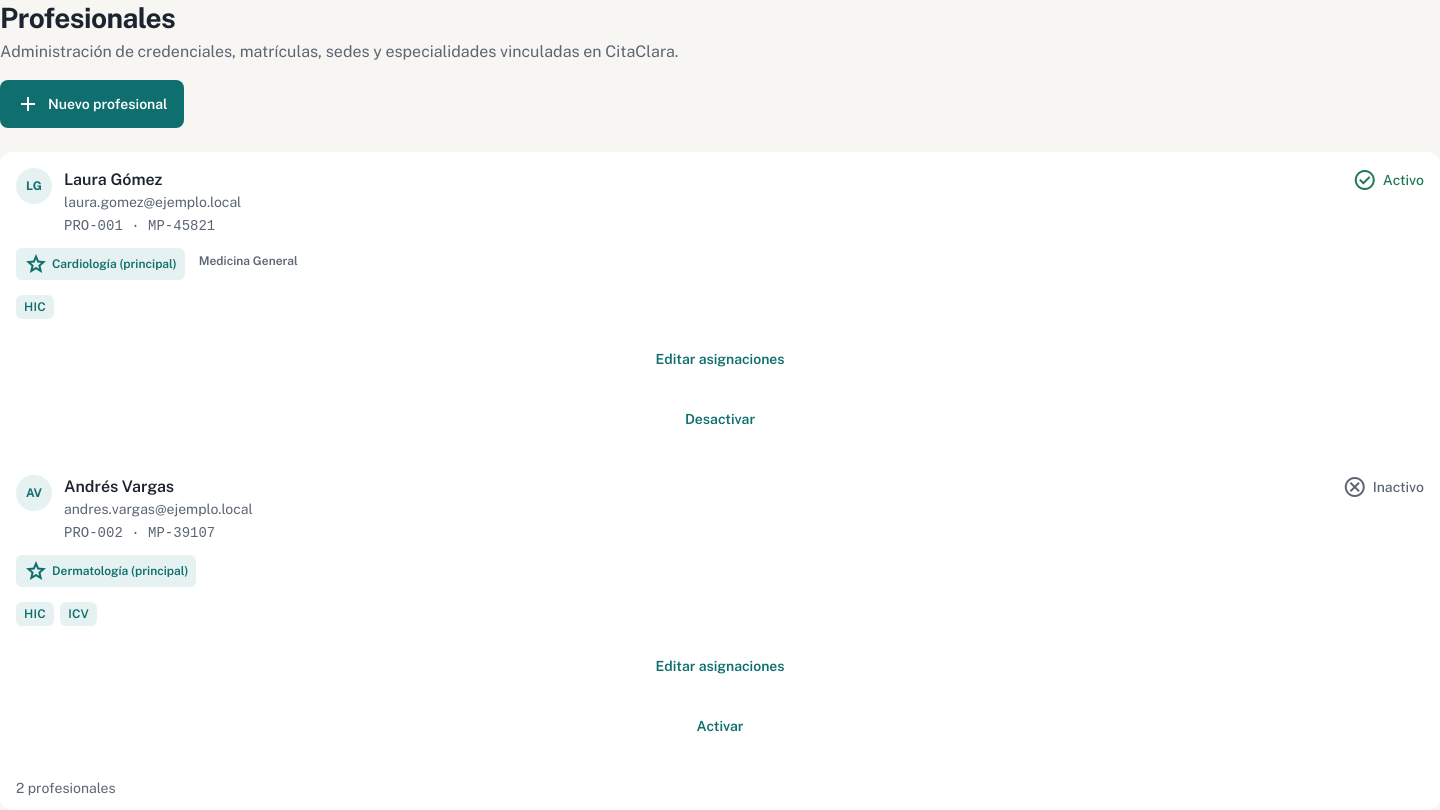
it: ProfessionalsPage (HU-008, HU-009) › HU-008 CA-02 el radio "Principal" solo se habilita en especialidades marcadas y solo ofrece las activas
Click the button "Nuevo profesional".
click(92, 104)  # box [0,80,184,128]
(page scrolled)
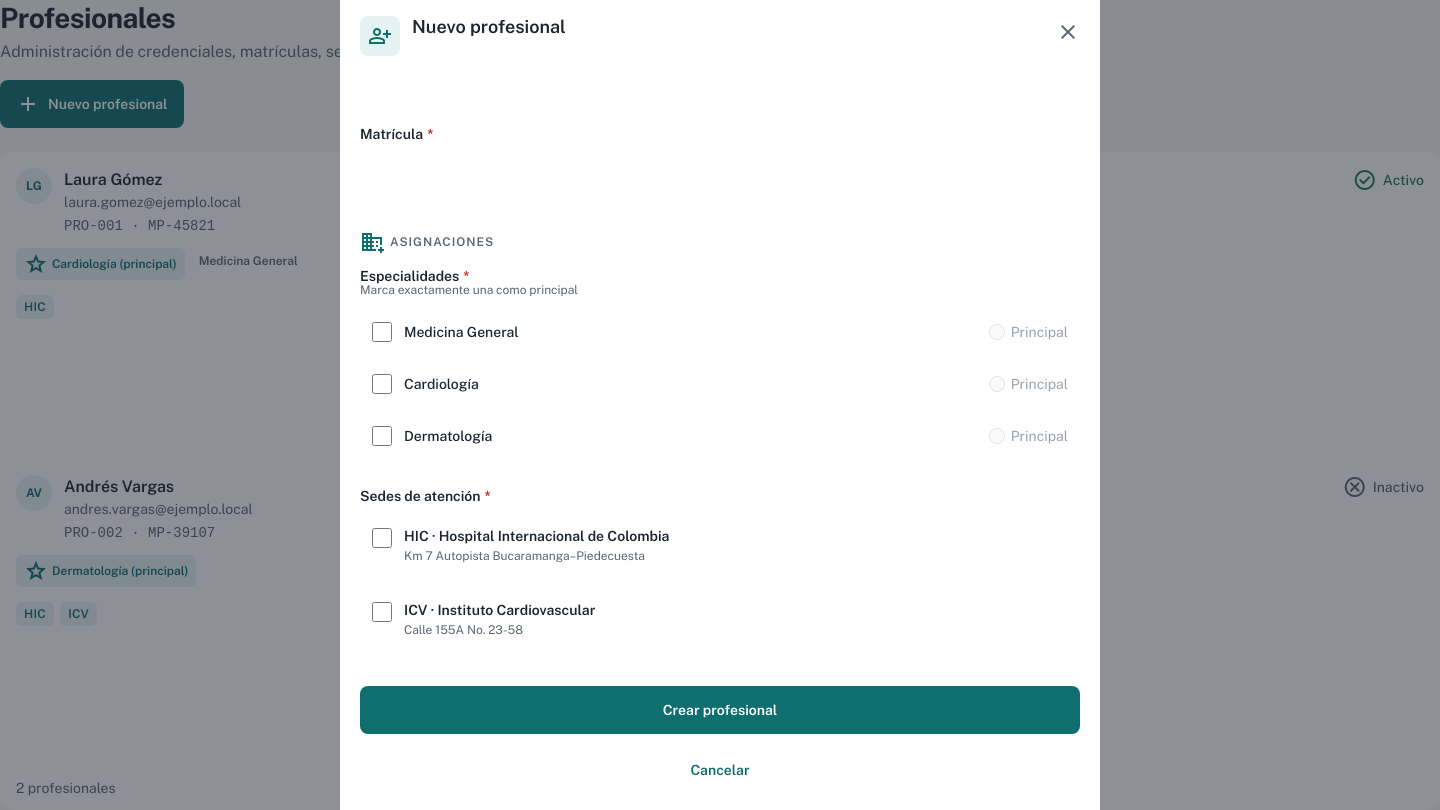
Expected: the radio button with aria-label "Principal (Cardiología)" is disabled, [989,376,1005,392]
Click the checkbox labelled "Cardiología".
click(382, 384)  # box [372,374,392,394]
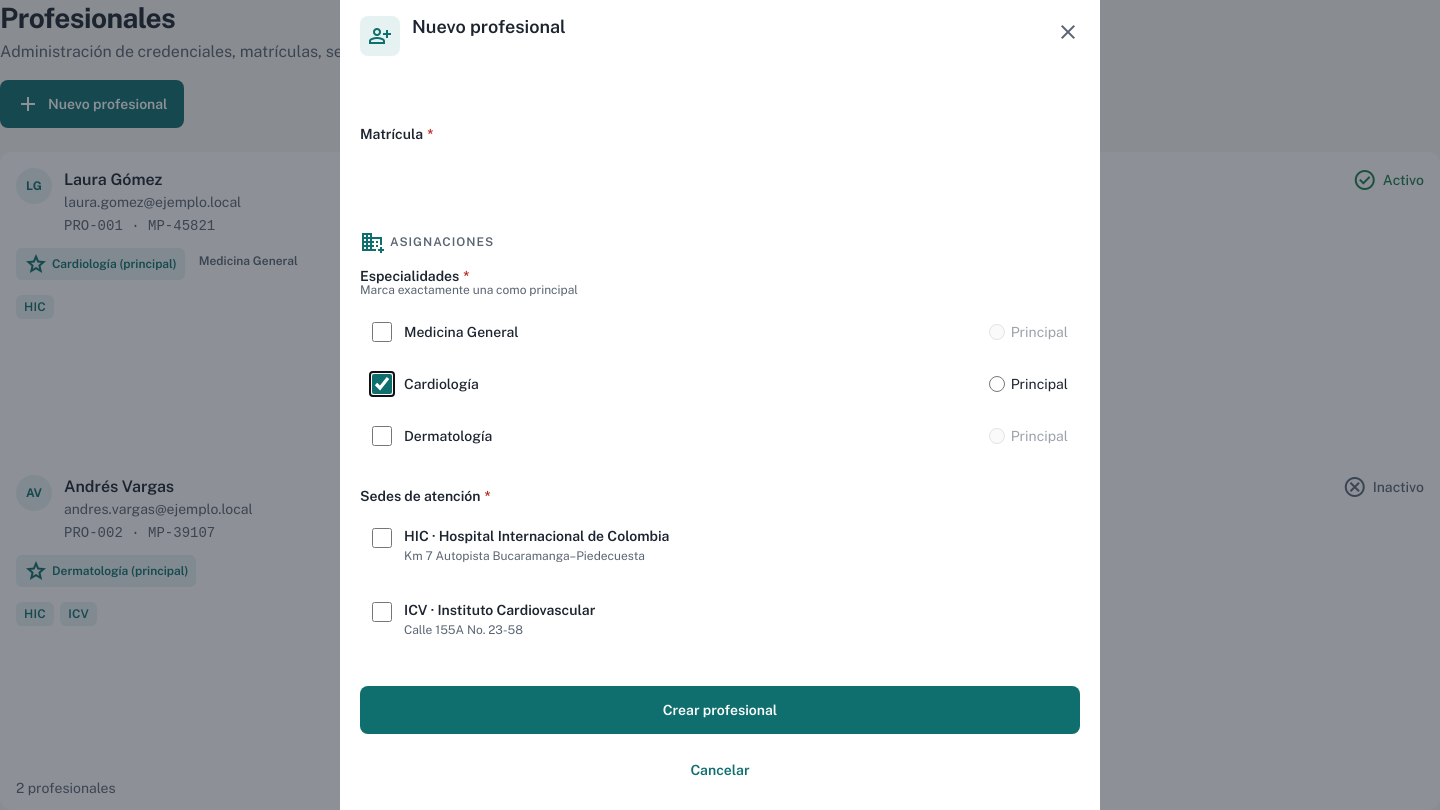
Expected: the radio button with aria-label "Principal (Cardiología)" is enabled, [989,376,1005,392]
